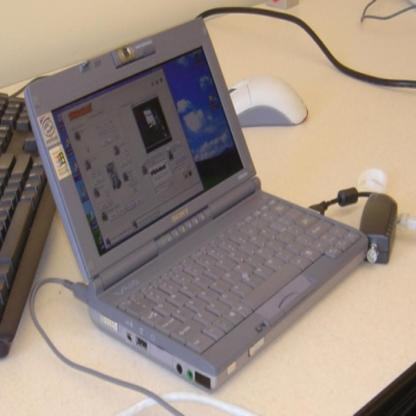board: (25, 16, 370, 392)
